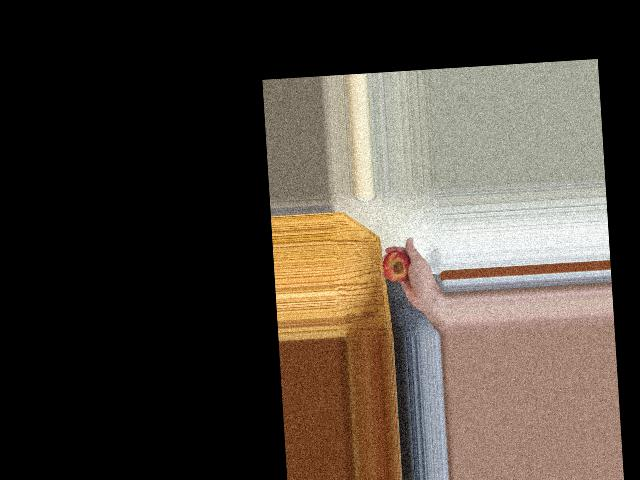apple: (381, 248, 414, 287)
